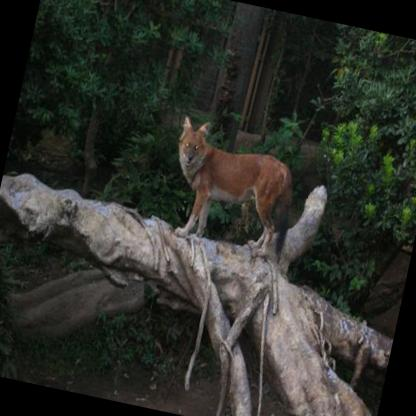dhole: (154, 109, 298, 259)
